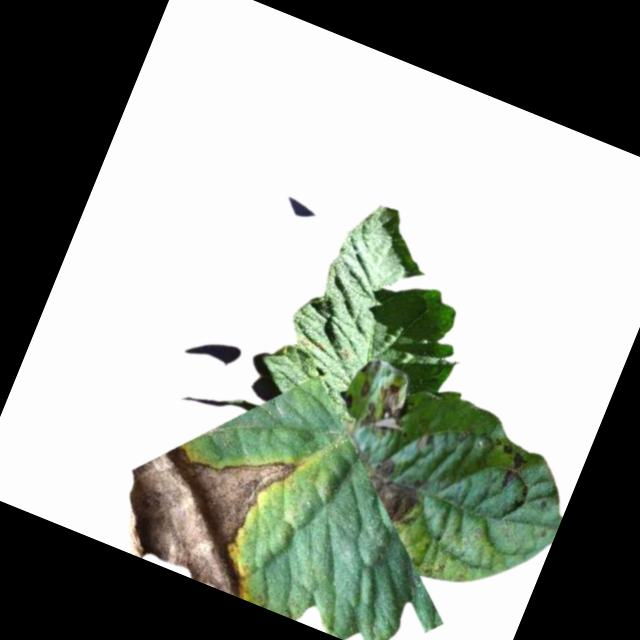Early_blight: (101, 404, 301, 600), (349, 449, 427, 526), (354, 375, 419, 447), (488, 442, 533, 492), (299, 330, 331, 357), (359, 375, 376, 400)
